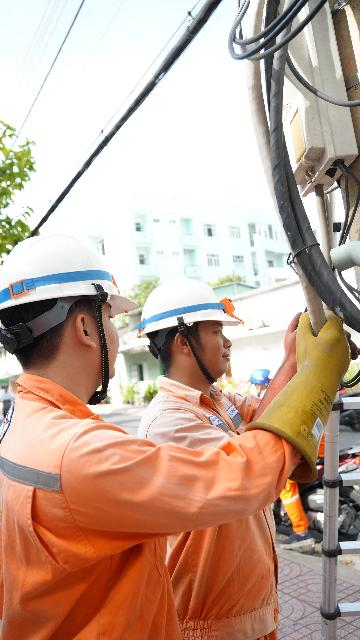gloves: (248, 310, 354, 480)
helmet: (0, 230, 141, 318), (132, 273, 255, 339)
